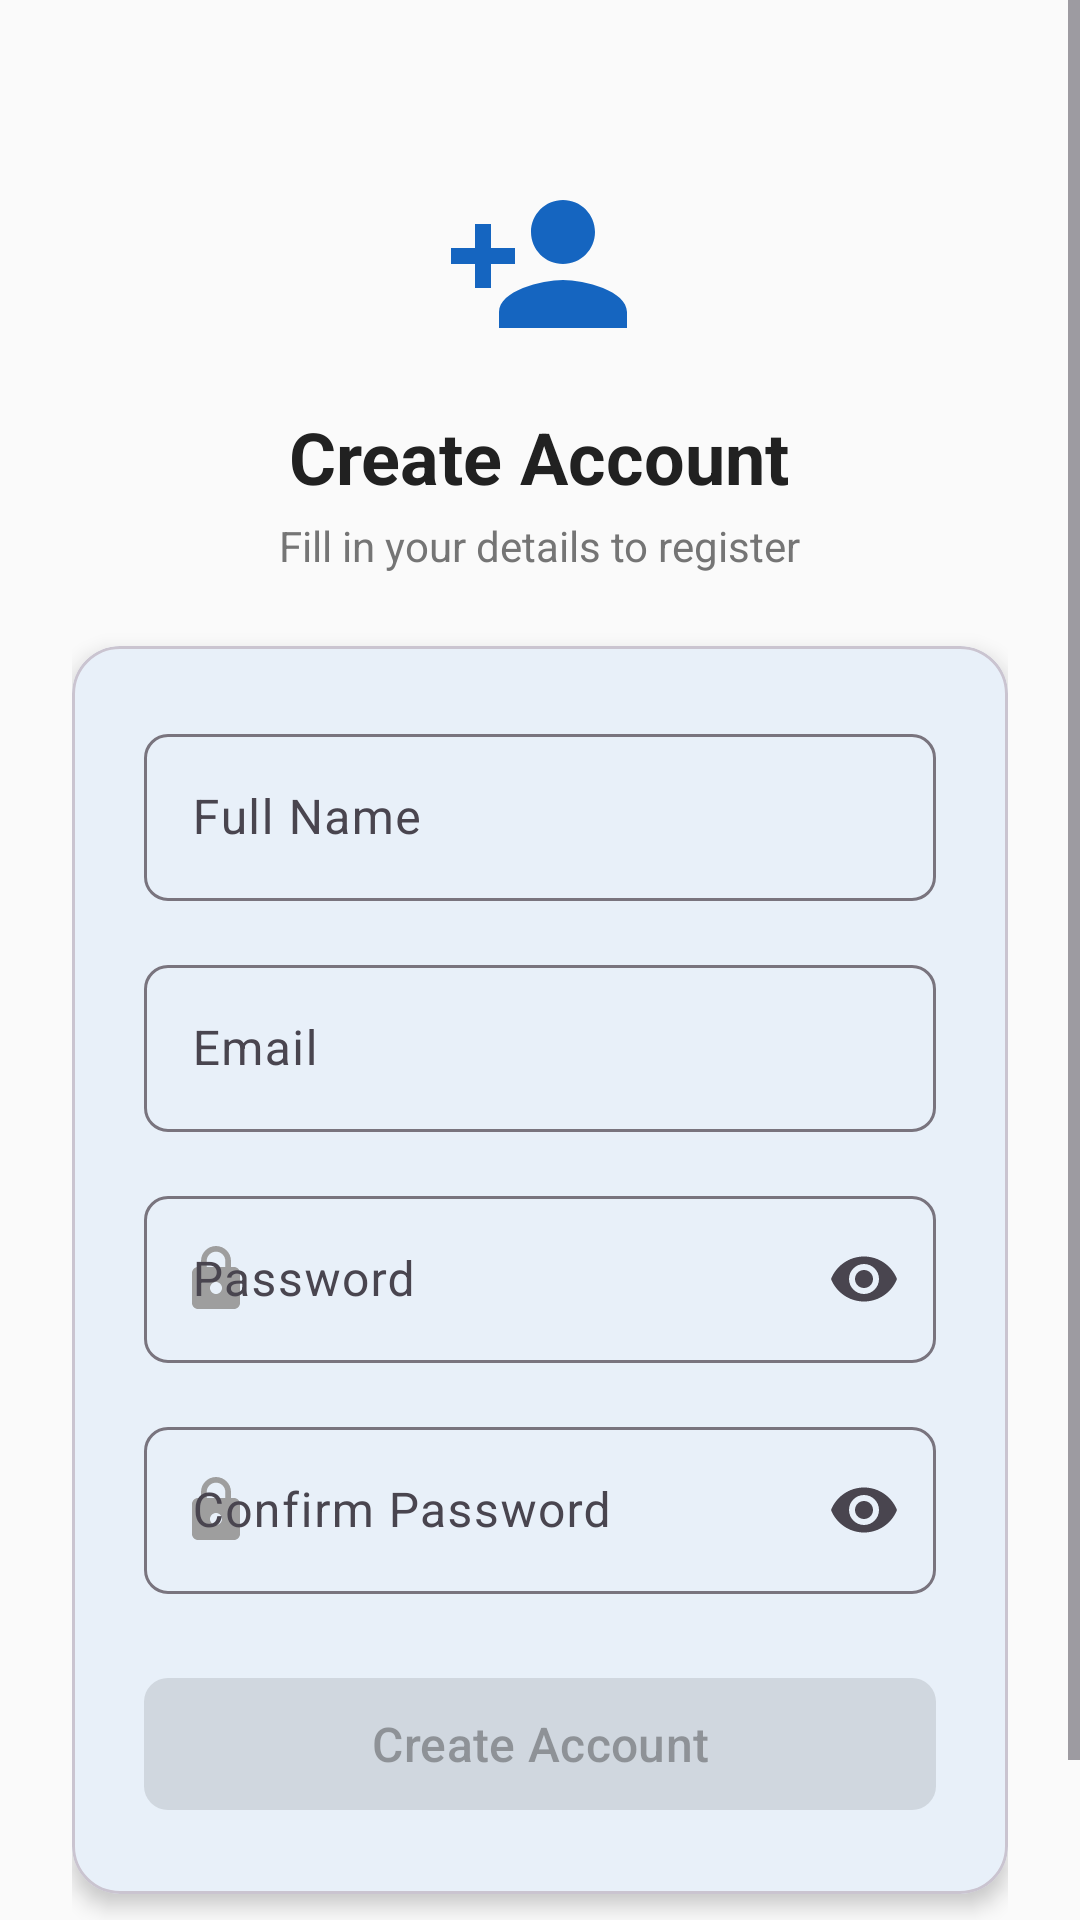

Icons on this 1080 × 1920 Android screen, each with the point to tap as point (x, y):
person add: point (539, 264)
